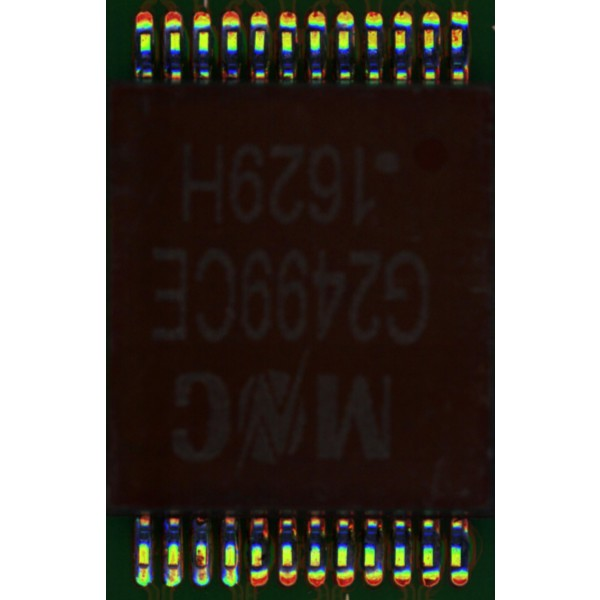Bad_podu: (168, 562, 178, 575), (225, 563, 234, 577), (196, 562, 207, 573), (139, 561, 149, 573)
